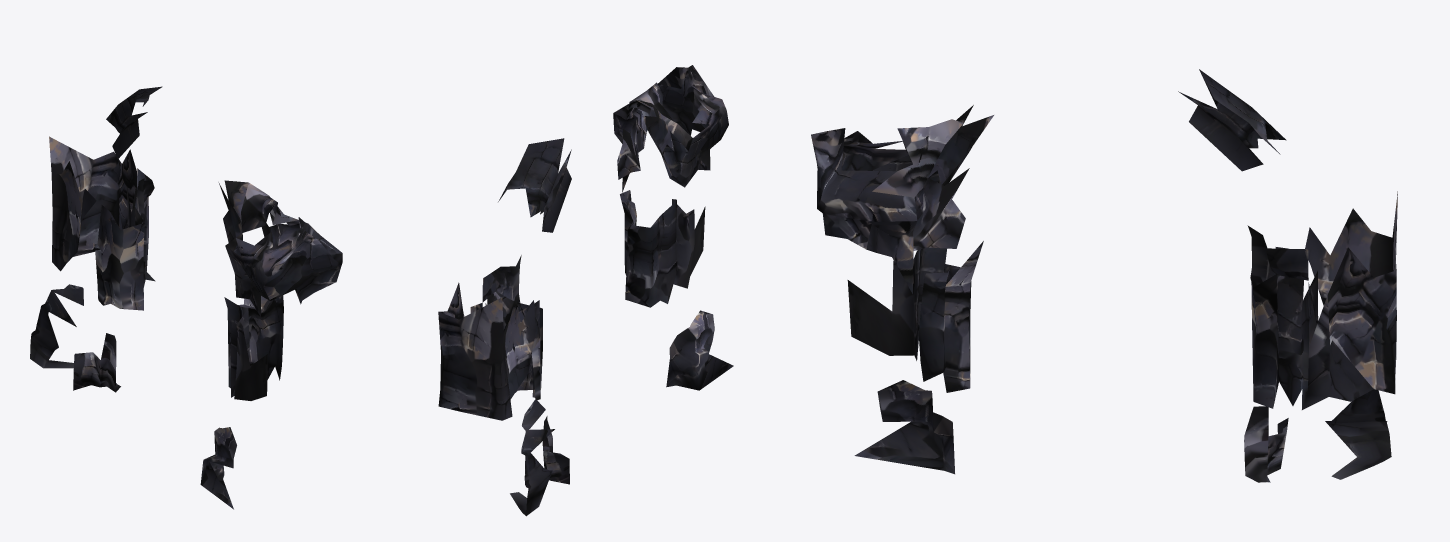
File: RIP0 (2).obj
3 views of the same model, side by side, from view 1: azimuth 30°, elevation 25°; view 2: azimuth 150°, elevation 25°; view 3: azimuth 270°, elevation 25° (orthographic). The views are drawn at different scales.
Parts seen in each view (by area): view 1: RIP0; view 2: RIP0; view 3: RIP0.
Boxes of the visible parts, left/top/right/bottom form: RIP0: left=30, top=86, right=342, bottom=509; RIP0: left=438, top=65, right=733, bottom=516; RIP0: left=811, top=69, right=1397, bottom=482.
Size of the model in its own units: 0.2644 by 0.7974 by 1.
